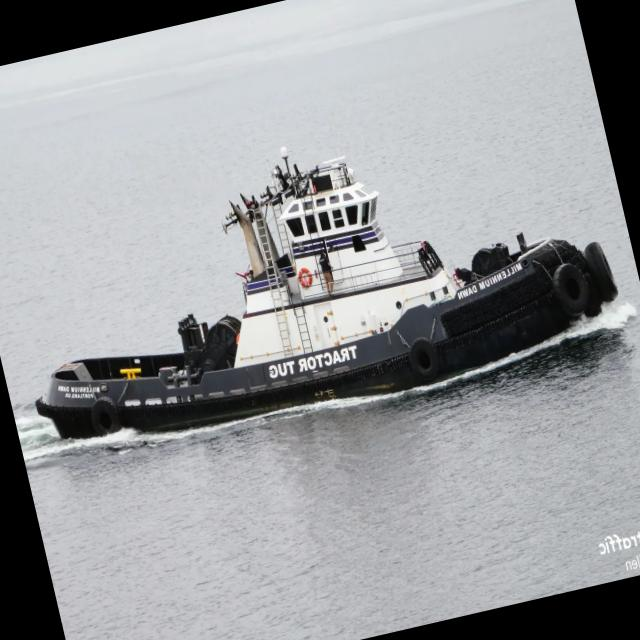Tug: (35, 147, 617, 438)
